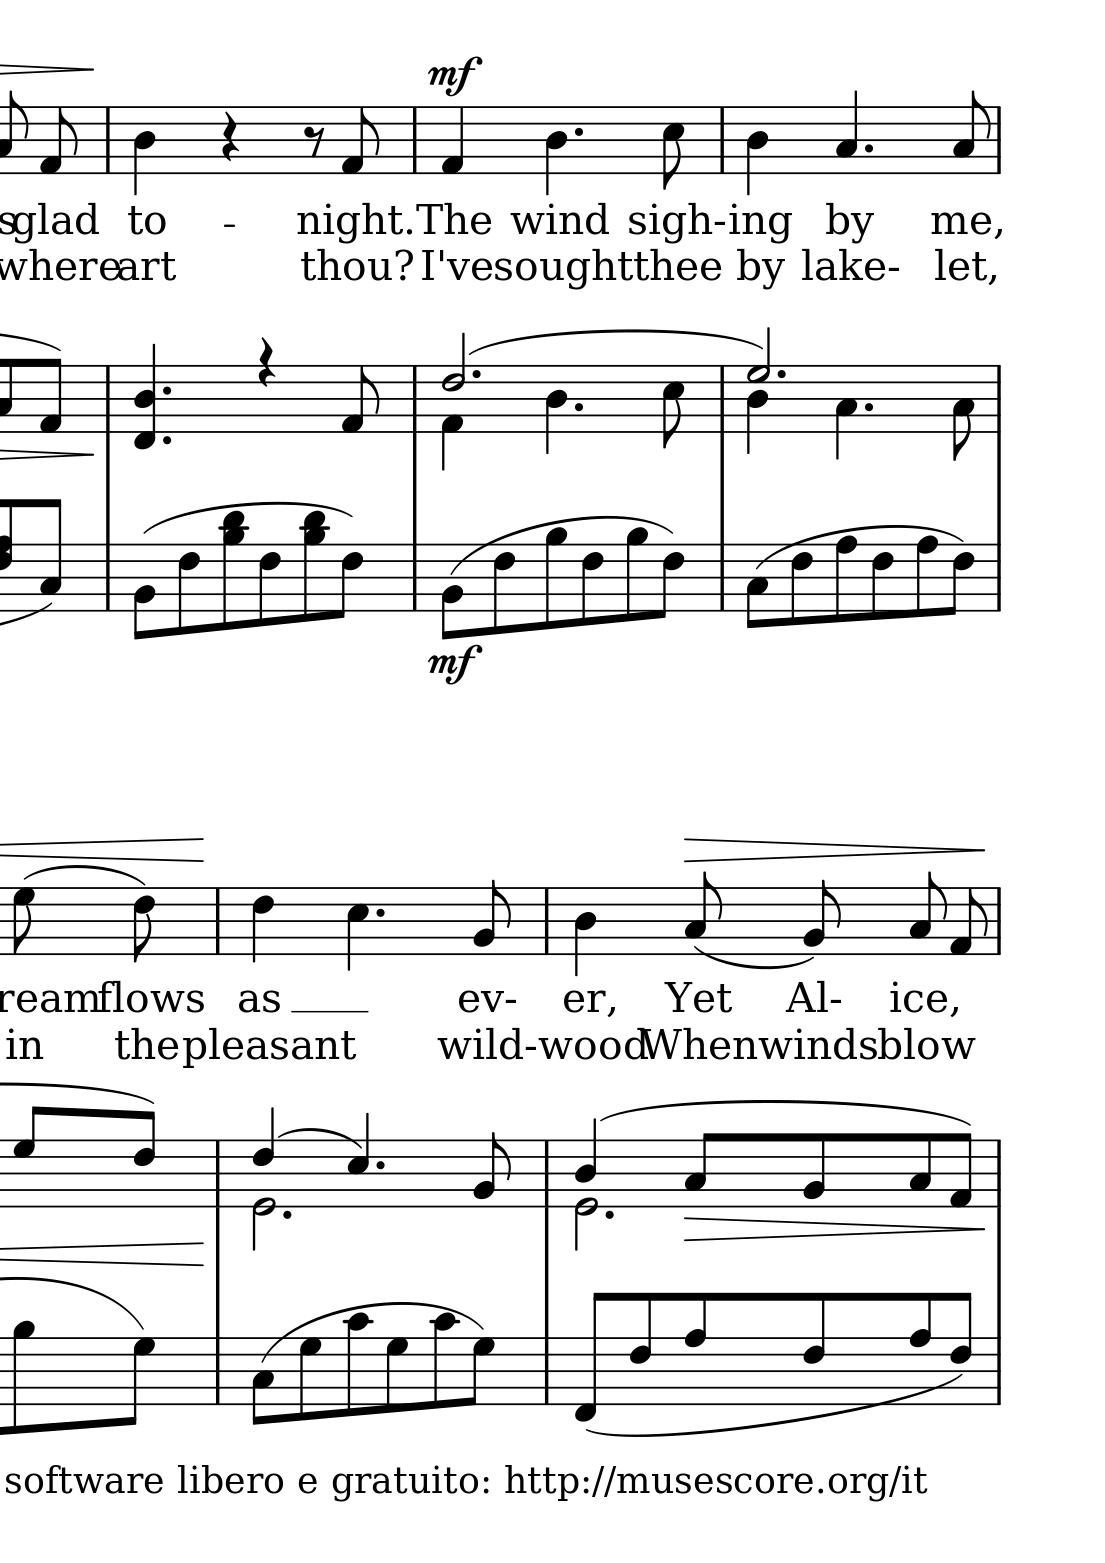4_-1_4: (133, 343, 159, 450)
4_1: (438, 105, 465, 177)
4_3: (834, 362, 857, 460), (834, 88, 859, 175)
4_4: (542, 364, 567, 458), (543, 105, 568, 197), (744, 105, 769, 196), (572, 886, 597, 977), (132, 105, 155, 196)
4_5: (344, 1111, 370, 1210), (344, 886, 370, 973)
4_6: (250, 886, 274, 965)
8_-1: (570, 1289, 608, 1425)
8_1: (338, 106, 380, 176), (340, 364, 379, 434), (37, 106, 78, 175), (950, 887, 989, 955), (37, 355, 62, 436), (947, 1131, 971, 1211)
8_10: (343, 1311, 372, 1419), (429, 1312, 457, 1410)
8_2: (801, 879, 841, 957), (471, 879, 511, 955), (472, 1130, 511, 1209), (130, 541, 155, 642), (439, 541, 464, 640)
8_3: (950, 90, 991, 176), (906, 871, 947, 957), (683, 871, 722, 957), (37, 497, 63, 615), (683, 1131, 716, 1209), (248, 1336, 275, 1428), (950, 364, 975, 463), (741, 542, 768, 631), (906, 1131, 933, 1210)
8_4: (800, 1132, 826, 1211)
8_5: (659, 104, 685, 191), (660, 364, 684, 448)
8_6: (799, 1290, 828, 1408), (625, 1289, 653, 1409), (948, 1290, 973, 1408), (130, 1109, 157, 1210), (173, 542, 200, 639), (331, 542, 364, 619), (653, 542, 685, 619), (490, 542, 515, 637), (945, 542, 976, 618), (256, 542, 281, 629), (579, 542, 604, 629), (788, 542, 813, 628), (129, 886, 155, 965), (869, 542, 895, 622)
8_7: (120, 1335, 155, 1428), (11, 1104, 42, 1210), (462, 1335, 494, 1408), (297, 1336, 323, 1422), (383, 1336, 409, 1414), (10, 884, 35, 955)
8_8: (680, 1289, 708, 1408), (905, 1289, 933, 1408), (832, 535, 857, 624), (912, 535, 938, 619)
8_9: (10, 1318, 38, 1435), (542, 526, 567, 631), (623, 526, 649, 623)
8_9_11: (218, 509, 248, 631), (298, 509, 330, 622)
Diminuendo_hairpin: (684, 835, 988, 866), (683, 1216, 990, 1243)
Rests4: (255, 336, 277, 390), (220, 110, 239, 164)
Rests8: (303, 124, 325, 159)
Single_barline: (404, 106, 425, 173), (405, 544, 425, 612), (208, 1337, 227, 1405), (714, 543, 732, 612), (208, 1140, 226, 1208), (990, 106, 1007, 175), (405, 366, 422, 433), (714, 366, 731, 433), (538, 1141, 555, 1208), (538, 1338, 555, 1405), (99, 106, 116, 172), (538, 889, 555, 954), (990, 544, 1006, 612), (991, 887, 1007, 955), (990, 1140, 1006, 1208), (990, 1337, 1006, 1405), (990, 365, 1006, 432), (99, 366, 115, 433), (100, 544, 116, 611), (714, 106, 729, 172), (209, 889, 225, 954)
Slur: (585, 1370, 967, 1441), (599, 1099, 977, 1125), (468, 329, 764, 359), (142, 503, 356, 535), (696, 945, 813, 971), (277, 1127, 362, 1153)
dot: (372, 905, 387, 920), (602, 1207, 617, 1221), (774, 367, 788, 381), (570, 399, 585, 414), (861, 399, 875, 414), (373, 1158, 387, 1172), (280, 1207, 294, 1221), (160, 432, 173, 447), (570, 126, 585, 139), (469, 367, 482, 381), (862, 140, 874, 155), (160, 384, 173, 397)
mf: (427, 54, 482, 100), (425, 645, 482, 686)
